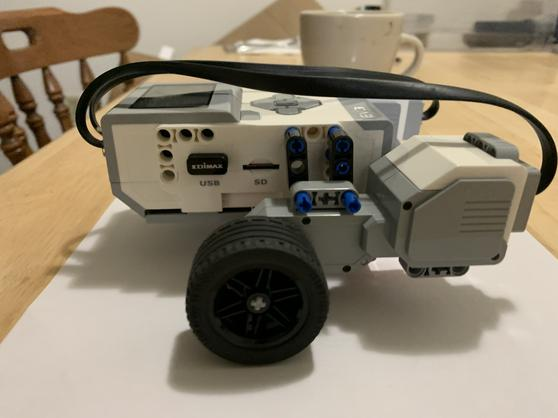robot: (66, 60, 558, 367)
